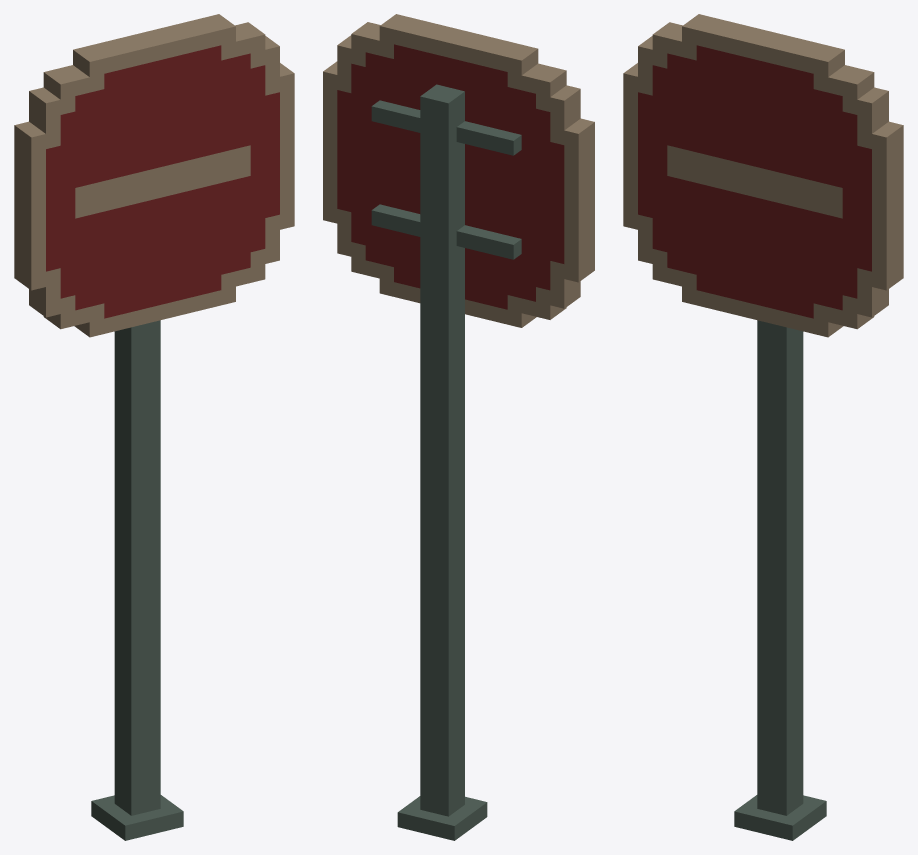
The model's file is cars_sign_64.glb.
3 renders of one model, left to right at view 1: azimuth 30°, elevation 25°; view 2: azimuth 150°, elevation 25°; view 3: azimuth 330°, elevation 25°, orthographic. The views are drawn at different scales.
Parts seen in each view (by area): view 1: cars_sign_64; view 2: cars_sign_64; view 3: cars_sign_64.
Boxes of the visible parts, <box> form: cars_sign_64: <box>14,14,294,840</box>; cars_sign_64: <box>323,14,594,840</box>; cars_sign_64: <box>623,14,903,840</box>.
Size of the model in its own units: 0.9 by 2.6 by 0.25.
Materials: 1 (1 with a texture image).
